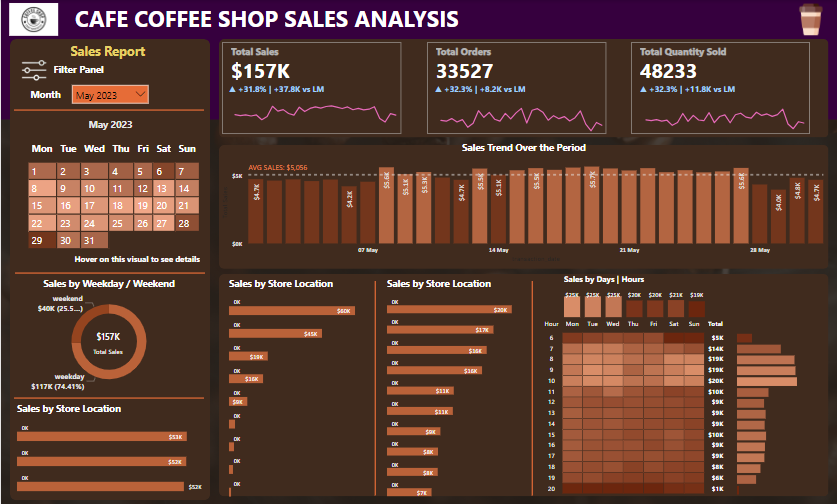

The page's visual inventory and layout, read from the dashboard file:
{"tool":"powerbi","page":{"name":"Page 1","canvas":[1400,850],"ordinal":0},"visuals":[{"type":"shape","box":[0,0,1400,200.3],"z":0},{"type":"shape","box":[15.3,64.6,334.9,771.8],"z":1000},{"type":"shape","box":[365.5,64.6,1020,165],"z":2000},{"type":"textbox","box":[107.1,0,686,65.3],"z":3000},{"type":"cardVisual","title":"Total Sales","fields":{"Data":["Transactions.Total Sales"]},"box":[365.5,64.6,310,164.9],"z":4000},{"type":"slicer","fields":{"Values":["Date Table.Month Year"]},"box":[113.9,137.7,137.7,45.9],"z":5000},{"type":"lineChart","fields":{"Y":["Transactions.Total Sales"],"Category":["Date Table.Date.Variation.Date Hierarchy.Year","Date Table.Date.Variation.Date Hierarchy.Quarter","Date Table.Date.Variation.Date Hierarchy.Month","Date Table.Date.Variation.Date Hierarchy.Day"]},"box":[375.7,141.1,299.2,85],"z":6000},{"type":"cardVisual","title":"Total Sales","fields":{"Data":["Transactions.Total Orders"]},"box":[707.2,64.6,310,164.9],"z":7000},{"type":"lineChart","fields":{"Category":["Date Table.Date.Variation.Date Hierarchy.Year","Date Table.Date.Variation.Date Hierarchy.Quarter","Date Table.Date.Variation.Date Hierarchy.Month","Date Table.Date.Variation.Date Hierarchy.Day"],"Y":["Transactions.Total Orders"]},"box":[720.8,141.1,299.2,85],"z":8000},{"type":"cardVisual","title":"Total Sales","fields":{"Data":["Transactions.Total Quantity Sold"]},"box":[1048.9,64.6,309.4,164.9],"z":9000},{"type":"lineChart","fields":{"Category":["Date Table.Date.Variation.Date Hierarchy.Year","Date Table.Date.Variation.Date Hierarchy.Quarter","Date Table.Date.Variation.Date Hierarchy.Month","Date Table.Date.Variation.Date Hierarchy.Day"],"Y":["Transactions.Total Quantity Sold"]},"box":[1064.2,141.1,294.1,85],"z":10000},{"type":"pivotTable","fields":{"Rows":["Date Table.Week Number"],"Columns":["Date Table.Day Name"],"Values":["Min(Date Table.Day Number)"]},"box":[15.3,229.5,333.2,221],"z":11000},{"type":"card","fields":{"Values":["Min(Date Table.Month Year)"]},"box":[122.4,190.4,122.4,39.1],"z":12000},{"type":"card","fields":{"Values":["Transactions.Foot Note"]},"box":[107.1,421.6,241.4,28.9],"z":13000},{"type":"shape","box":[23.8,450.5,317.9,13.6],"z":14000},{"type":"shape","box":[22.1,176.8,317.9,13.6],"z":15000},{"type":"donutChart","title":"Sales by Weekday / Weekend","fields":{"Category":["Date Table.Weekday / Weekend"],"Y":["Transactions.Total Sales"]},"box":[27.2,464.1,307.7,195.5],"z":16000},{"type":"card","fields":{"Values":["Transactions.Total Sales"]},"box":[134.3,545.7,90.1,54.4],"z":17000},{"type":"shape","box":[22.1,659.6,317.9,13.6],"z":18000},{"type":"clusteredBarChart","title":"Sales by Store Location","fields":{"Category":["Transactions.store_location"],"Y":["Transactions.Placeholder","Transactions.Total Sales"]},"box":[22.1,673.2,319.6,156.4],"z":19000},{"type":"shape","box":[365.5,243.1,1020,207.4],"z":20000},{"type":"columnChart","title":"Sales Trend Over the Period","fields":{"Category":["Transactions.transaction_date"],"Y":["Transactions.Total Sales"]},"box":[365,236,1020,207.4],"z":21000},{"type":"shape","box":[365.5,459,1020,372.3],"z":22000},{"type":"clusteredBarChart","title":"Sales by Store Location","fields":{"Y":["Transactions.Placeholder","Transactions.Total Sales"],"Category":["Transactions.product_category"]},"box":[376.5,463.5,249.3,373.1],"z":23000},{"type":"shape","box":[598.4,470.9,54.4,358.7],"z":24000},{"type":"clusteredBarChart","title":"Sales by Store Location","fields":{"Y":["Transactions.Placeholder","Transactions.Total Sales"],"Category":["Transactions.product_type"]},"box":[640.9,464.1,249.9,372.3],"z":25000},{"type":"shape","box":[862.2,470,54.4,358.9],"z":26000},{"type":"pivotTable","fields":{"Rows":["Transactions.Hour"],"Columns":["Date Table.Day Name"],"Values":["Transactions.Total Sales"]},"box":[899.3,528.7,346.8,307.7],"z":27000},{"type":"barChart","fields":{"Category":["Transactions.Hour"],"Y":["Transactions.Total Sales"]},"box":[1225.7,545,112.2,287.3],"z":28000},{"type":"columnChart","title":"Sales by Days | Hours","fields":{"Y":["Transactions.Total Sales"],"Category":["Date Table.Day Name"]},"box":[936.7,458,246.5,78.2],"z":29000},{"type":"textbox","box":[35.7,142.8,78.2,35.7],"z":30000},{"type":"textbox","box":[47.6,64.6,263.5,42.5],"z":31000},{"type":"textbox","box":[74.8,100.3,108.8,37.4],"z":32000},{"type":"image","box":[19,83.3,69.7,71.4],"z":33000},{"type":"image","box":[1.7,0,105.4,64.6],"z":34000},{"type":"image","box":[1324.3,0,62.9,64.6],"z":35000}]}

Visuals, with their boxes in screenshot pixels (x1, y1, x2, y2), scaled from the page's 1400x850 canvas onto the 837x504 screenshot:
shape: (0,0,836,119)
shape: (9,38,209,496)
shape: (219,38,828,136)
textbox: (64,0,474,39)
"Total Sales" cardVisual: (219,38,404,136)
slicer - Date Table.Month Year: (68,82,150,109)
lineChart - Transactions.Total Sales x Date Table.Date.Variation.Date Hierarchy.Year: (225,84,403,134)
"Total Sales" cardVisual: (423,38,608,136)
lineChart - Date Table.Date.Variation.Date Hierarchy.Year x Date Table.Date.Variation.Date Hierarchy.Quarter: (431,84,610,134)
"Total Sales" cardVisual: (627,38,812,136)
lineChart - Date Table.Date.Variation.Date Hierarchy.Year x Date Table.Date.Variation.Date Hierarchy.Quarter: (636,84,812,134)
pivotTable - Date Table.Week Number x Date Table.Day Name: (9,136,208,267)
card - Min(Date Table.Month Year): (73,113,146,136)
card - Transactions.Foot Note: (64,250,208,267)
shape: (14,267,204,275)
shape: (13,105,203,113)
"Sales by Weekday / Weekend" donutChart: (16,275,200,391)
card - Transactions.Total Sales: (80,324,134,356)
shape: (13,391,203,399)
"Sales by Store Location" clusteredBarChart: (13,399,204,492)
shape: (219,144,828,267)
"Sales Trend Over the Period" columnChart: (218,140,828,263)
shape: (219,272,828,493)
"Sales by Store Location" clusteredBarChart: (225,275,374,496)
shape: (358,279,390,492)
"Sales by Store Location" clusteredBarChart: (383,275,533,496)
shape: (515,279,548,491)
pivotTable - Transactions.Hour x Date Table.Day Name: (538,313,745,496)
barChart - Transactions.Hour x Transactions.Total Sales: (733,323,800,494)
"Sales by Days | Hours" columnChart: (560,272,707,318)
textbox: (21,85,68,106)
textbox: (28,38,186,64)
textbox: (45,59,110,82)
image: (11,49,53,92)
image: (1,0,64,38)
image: (792,0,829,38)
